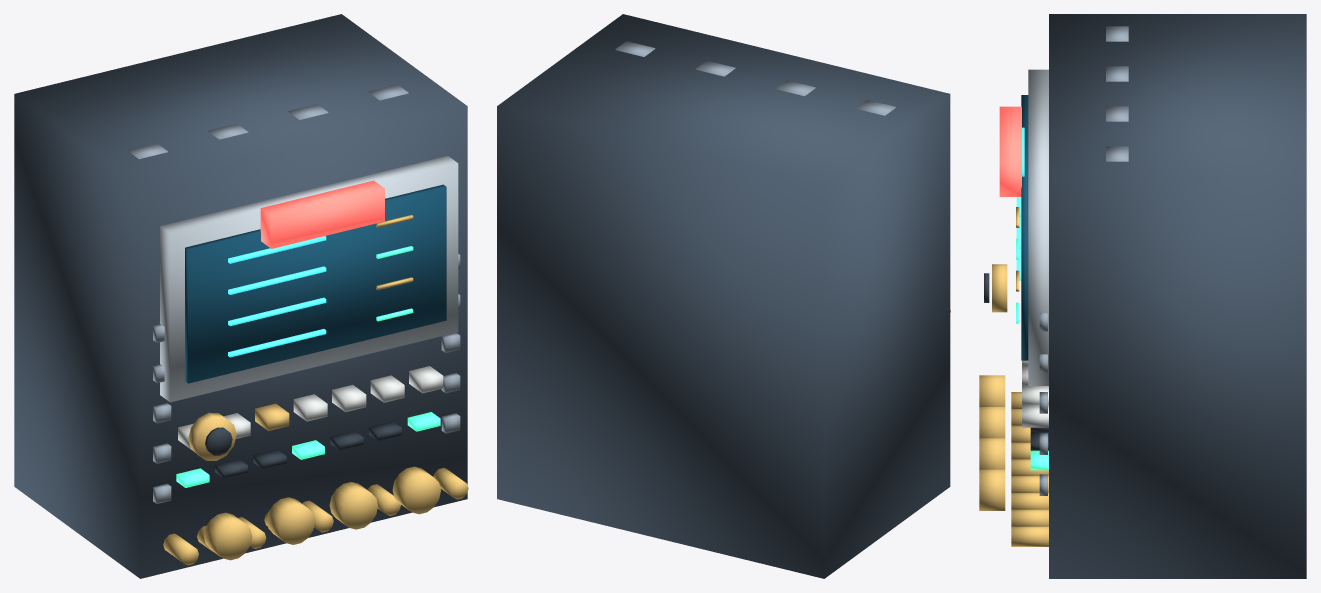
The model's file is 86_L88_W145CriticalPressureFeedbackPatchStation.fbx.
The picture shows the model from 3 angles, left to right: view 1: azimuth 30°, elevation 25°; view 2: azimuth 150°, elevation 25°; view 3: azimuth 270°, elevation 25°; orthographic projection. The views are drawn at different scales.
Visible parts, largest first — view 1: L87_W145CriticalPressureFeedb_Part_0000, L87_W145CriticalPressureFeedb_Part_0002, L87_W145CriticalPressureFeedb_Part_0001, L87_W145CriticalPressureFeedb_Part_0004, L87_W145CriticalPressureFeedb_Part_0010, L87_W145CriticalPressureFeedb_Part_0008, L87_W145CriticalPressureFeedb_Part_0006, L87_W145CriticalPressureFeedb_Part_0003, L87_W145CriticalPressureFeedb_Part_0007, L87_W145CriticalPressureFeedb_Part_0005, L87_W145CriticalPressureFeedb_Part_0011, L87_W145CriticalPressureFeedb_Part_0012; view 2: L87_W145CriticalPressureFeedb_Part_0000, L87_W145CriticalPressureFeedb_Part_0008; view 3: L87_W145CriticalPressureFeedb_Part_0000, L87_W145CriticalPressureFeedb_Part_0004, L87_W145CriticalPressureFeedb_Part_0001, L87_W145CriticalPressureFeedb_Part_0008, L87_W145CriticalPressureFeedb_Part_0010, L87_W145CriticalPressureFeedb_Part_0002, L87_W145CriticalPressureFeedb_Part_0006, L87_W145CriticalPressureFeedb_Part_0011, L87_W145CriticalPressureFeedb_Part_0005.
Boxes of the visible parts, x1=… form: L87_W145CriticalPressureFeedb_Part_0000: x1=14, y1=14, x2=467, y2=578; L87_W145CriticalPressureFeedb_Part_0002: x1=185, y1=184, x2=446, y2=383; L87_W145CriticalPressureFeedb_Part_0001: x1=160, y1=156, x2=458, y2=402; L87_W145CriticalPressureFeedb_Part_0004: x1=163, y1=214, x2=468, y2=565; L87_W145CriticalPressureFeedb_Part_0010: x1=260, y1=180, x2=384, y2=248; L87_W145CriticalPressureFeedb_Part_0008: x1=128, y1=84, x2=460, y2=503; L87_W145CriticalPressureFeedb_Part_0006: x1=178, y1=366, x2=443, y2=449; L87_W145CriticalPressureFeedb_Part_0003: x1=228, y1=236, x2=326, y2=357; L87_W145CriticalPressureFeedb_Part_0007: x1=215, y1=421, x2=401, y2=478; L87_W145CriticalPressureFeedb_Part_0005: x1=176, y1=246, x2=440, y2=487; L87_W145CriticalPressureFeedb_Part_0011: x1=188, y1=412, x2=236, y2=460; L87_W145CriticalPressureFeedb_Part_0012: x1=205, y1=427, x2=232, y2=455; L87_W145CriticalPressureFeedb_Part_0000: x1=497, y1=14, x2=950, y2=578; L87_W145CriticalPressureFeedb_Part_0008: x1=615, y1=41, x2=895, y2=115; L87_W145CriticalPressureFeedb_Part_0000: x1=1049, y1=14, x2=1306, y2=578; L87_W145CriticalPressureFeedb_Part_0004: x1=979, y1=207, x2=1048, y2=546; L87_W145CriticalPressureFeedb_Part_0001: x1=1028, y1=69, x2=1048, y2=385; L87_W145CriticalPressureFeedb_Part_0008: x1=1039, y1=26, x2=1128, y2=495; L87_W145CriticalPressureFeedb_Part_0010: x1=999, y1=106, x2=1021, y2=196; L87_W145CriticalPressureFeedb_Part_0002: x1=1021, y1=95, x2=1028, y2=360; L87_W145CriticalPressureFeedb_Part_0006: x1=1022, y1=360, x2=1048, y2=427; L87_W145CriticalPressureFeedb_Part_0011: x1=992, y1=264, x2=1007, y2=312; L87_W145CriticalPressureFeedb_Part_0005: x1=1016, y1=238, x2=1048, y2=470.
Bounding box in the file's own units: 1.04 × 1.2 × 0.8818.
